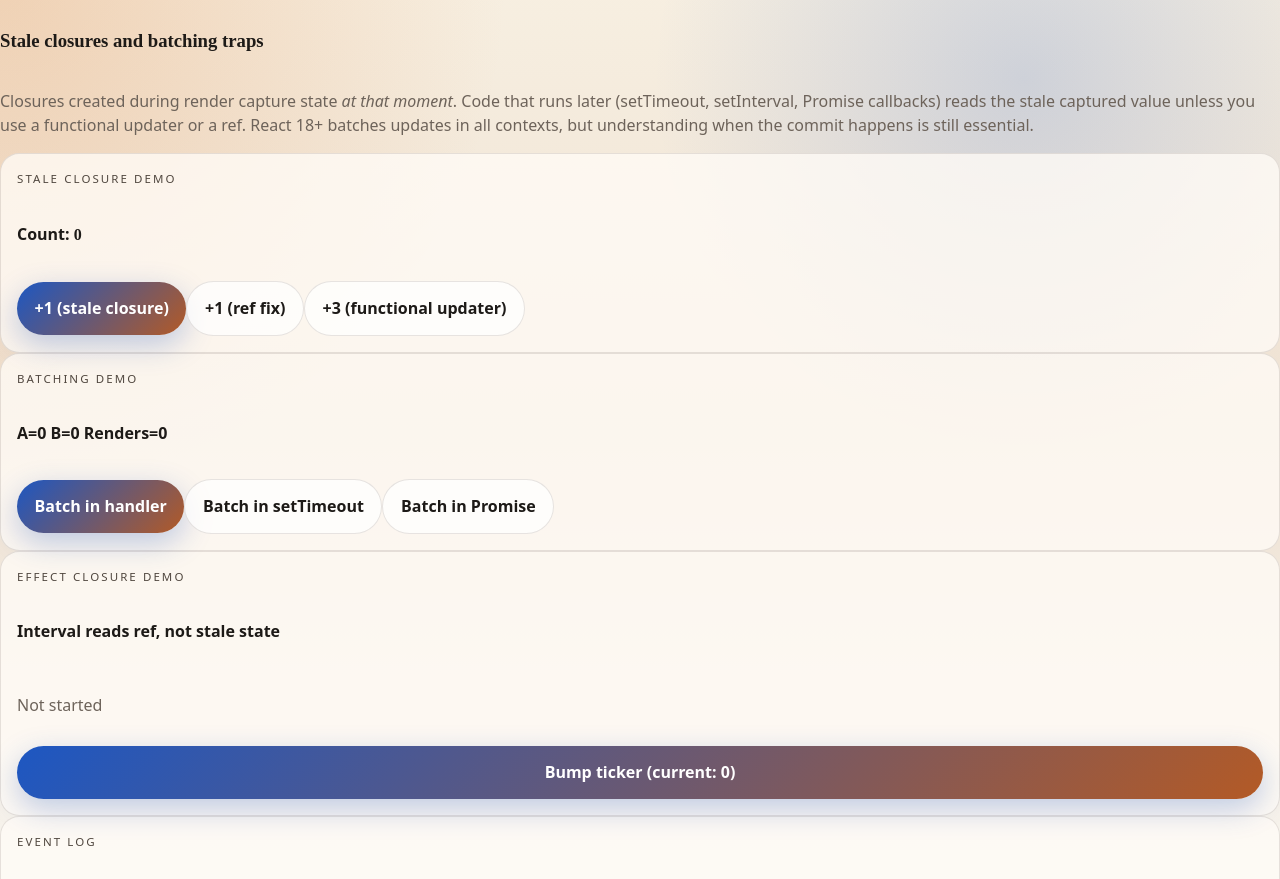
Scenario: stale closure sample › shows stale and fresh timeout reads plus the functional updater result
The width and height of the screenshot is (1280, 879).
Expected: the text "Stale closure demo" is shown, [17, 171, 177, 186]
Expected: the text "0" is shown, [74, 226, 82, 243]
Click the button "+1 (stale closure)": x=102, y=308 [17, 282, 186, 335]
Wait 800 ms
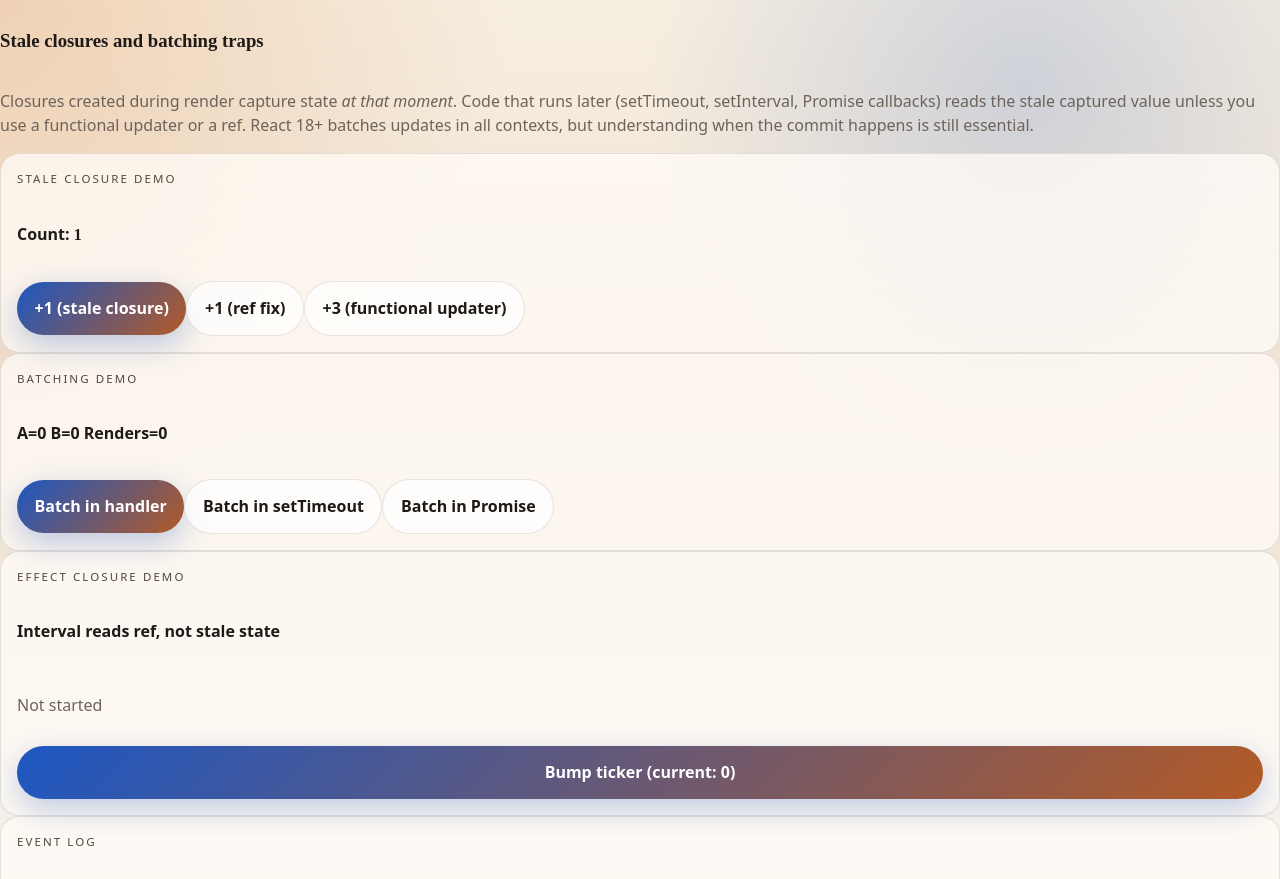
Now the text "1" is shown, box [74, 226, 82, 243]
Click the button "+1 (ref fix)": x=245, y=308 [186, 281, 304, 336]
Wait 800 ms
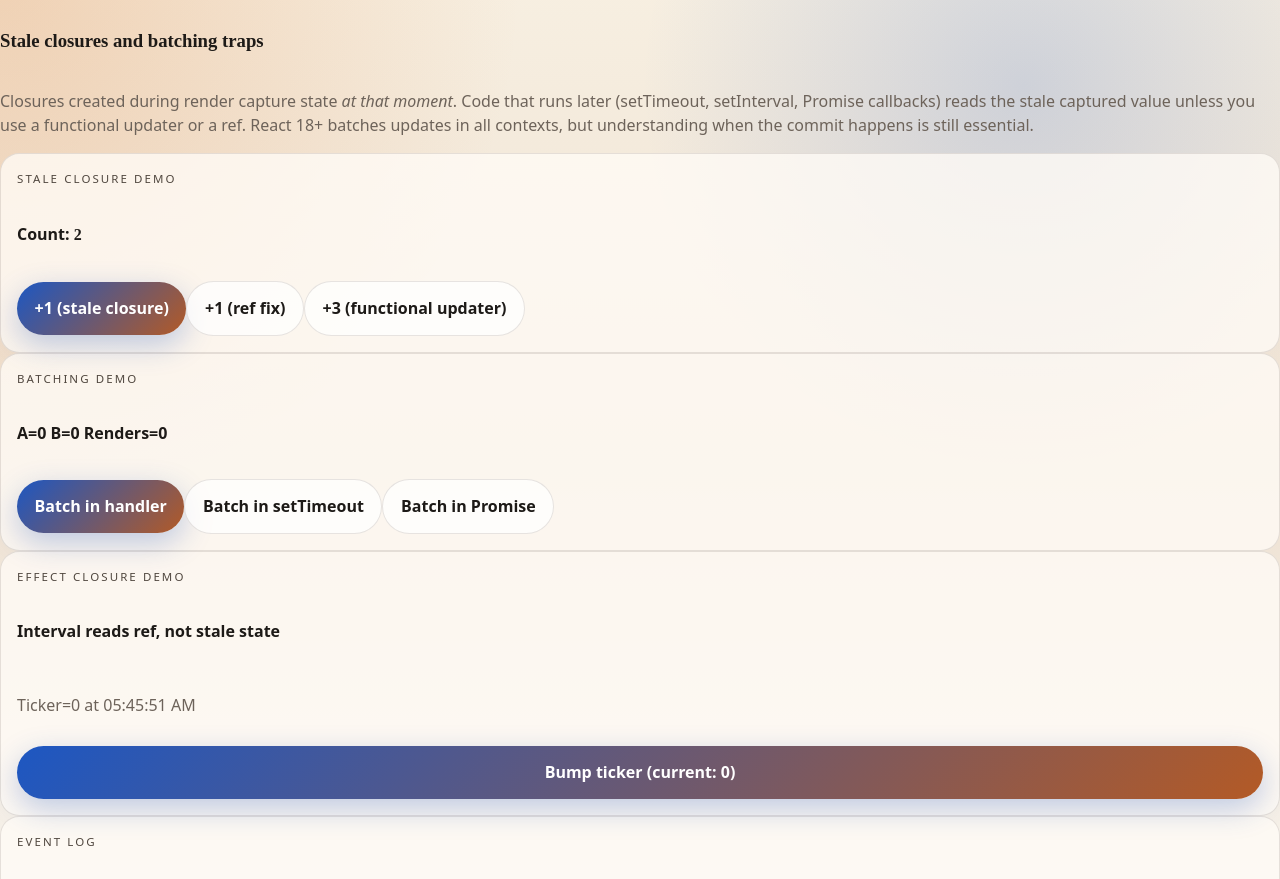
Now the text "2" is shown, box [74, 226, 82, 243]
Click the button "+3 (functional updater)": x=414, y=308 [304, 281, 525, 336]
(page scrolled)
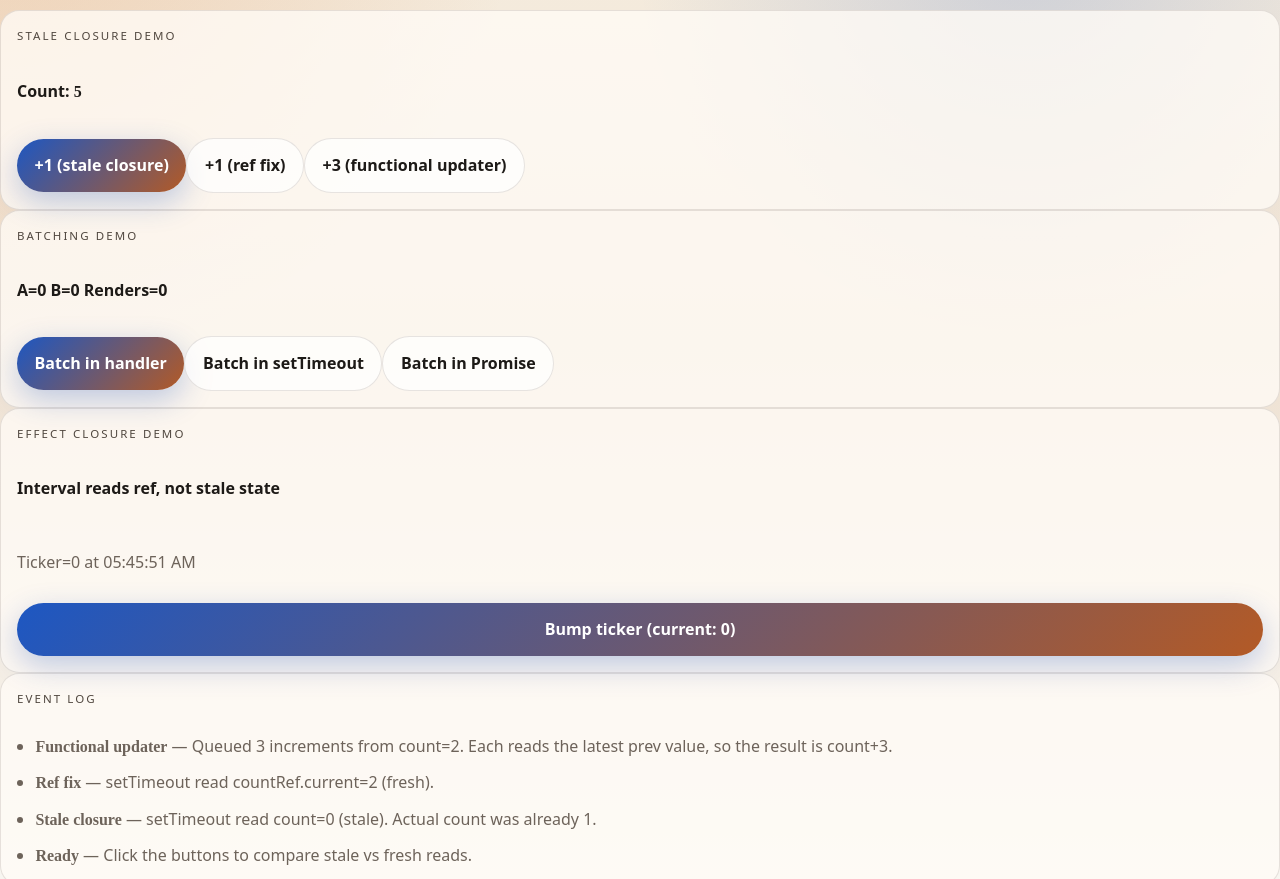
Now the text "5" is shown, box [74, 83, 82, 100]
Now the list item "Queued 3 increments from count=2. Each reads the latest prev value, so the result is count+3." is shown, box [192, 735, 892, 757]
